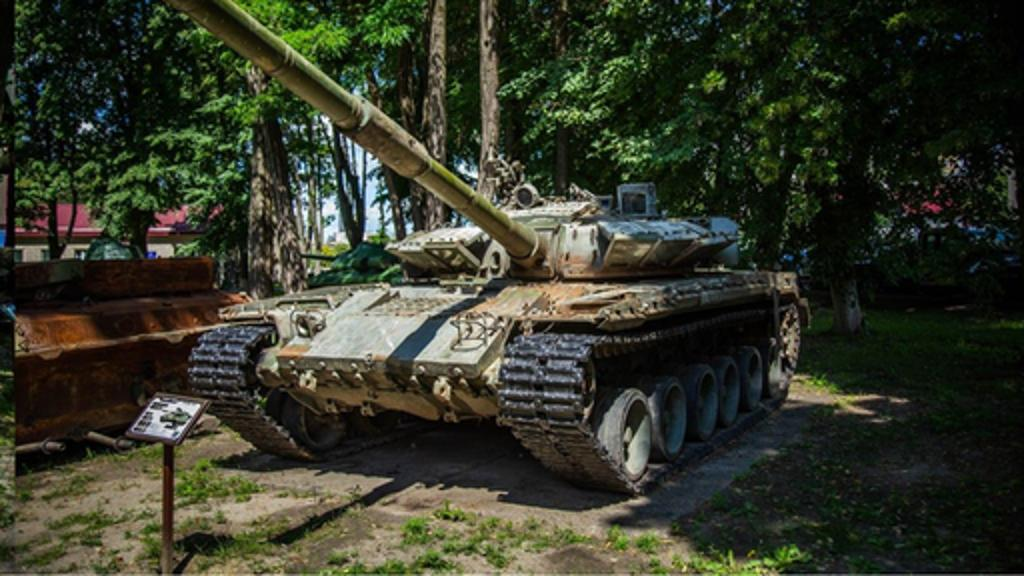TANK: (182, 2, 808, 500)
